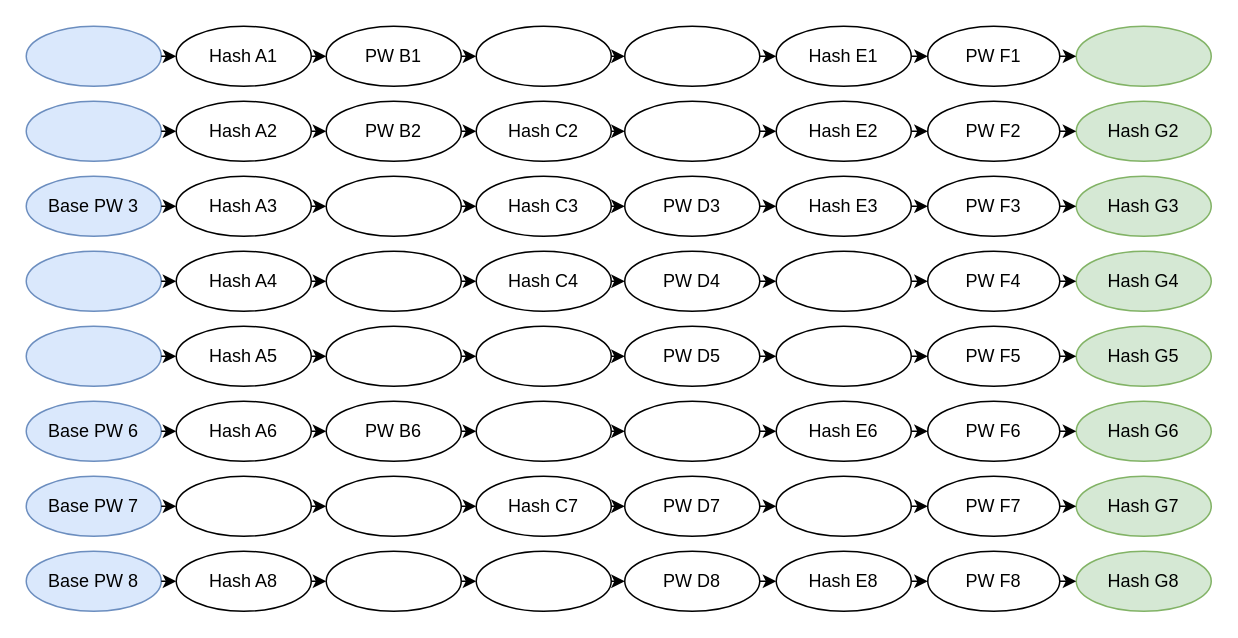
The diagram is 1238 pixels wide and 638 high, and some of its shapes have lost their labels. The box of each missing label's shape, as (x1, y1, x2, y2) in pixels:
Base PW 1: (25, 25, 161, 86)
Base PW 2: (25, 100, 161, 161)
Base PW 4: (25, 250, 161, 311)
Base PW 5: (25, 325, 161, 386)
Hash A7: (175, 475, 311, 536)
Hash C1: (475, 25, 611, 86)
Hash C5: (475, 325, 611, 386)
Hash C6: (475, 400, 611, 461)
Hash C8: (475, 550, 611, 611)
Hash E4: (775, 250, 911, 311)
Hash E5: (775, 325, 911, 386)
Hash E7: (775, 475, 911, 536)
Hash G1: (1075, 25, 1211, 86)
PW B3: (325, 175, 461, 236)
PW B4: (325, 250, 461, 311)
PW B5: (325, 325, 461, 386)
PW B7: (325, 475, 461, 536)
PW B8: (325, 550, 461, 611)
PW D1: (623, 25, 760, 86)
PW D2: (623, 100, 760, 161)
PW D6: (623, 400, 760, 461)
